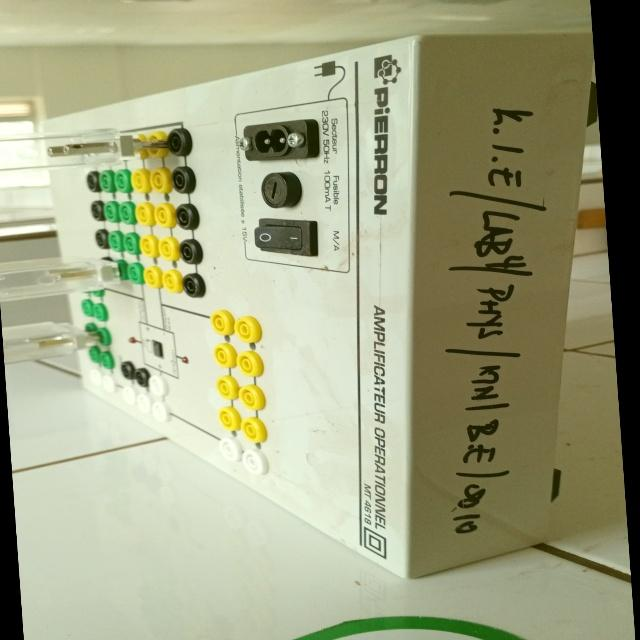Operational Amplifier Board: (2, 0, 630, 612)
